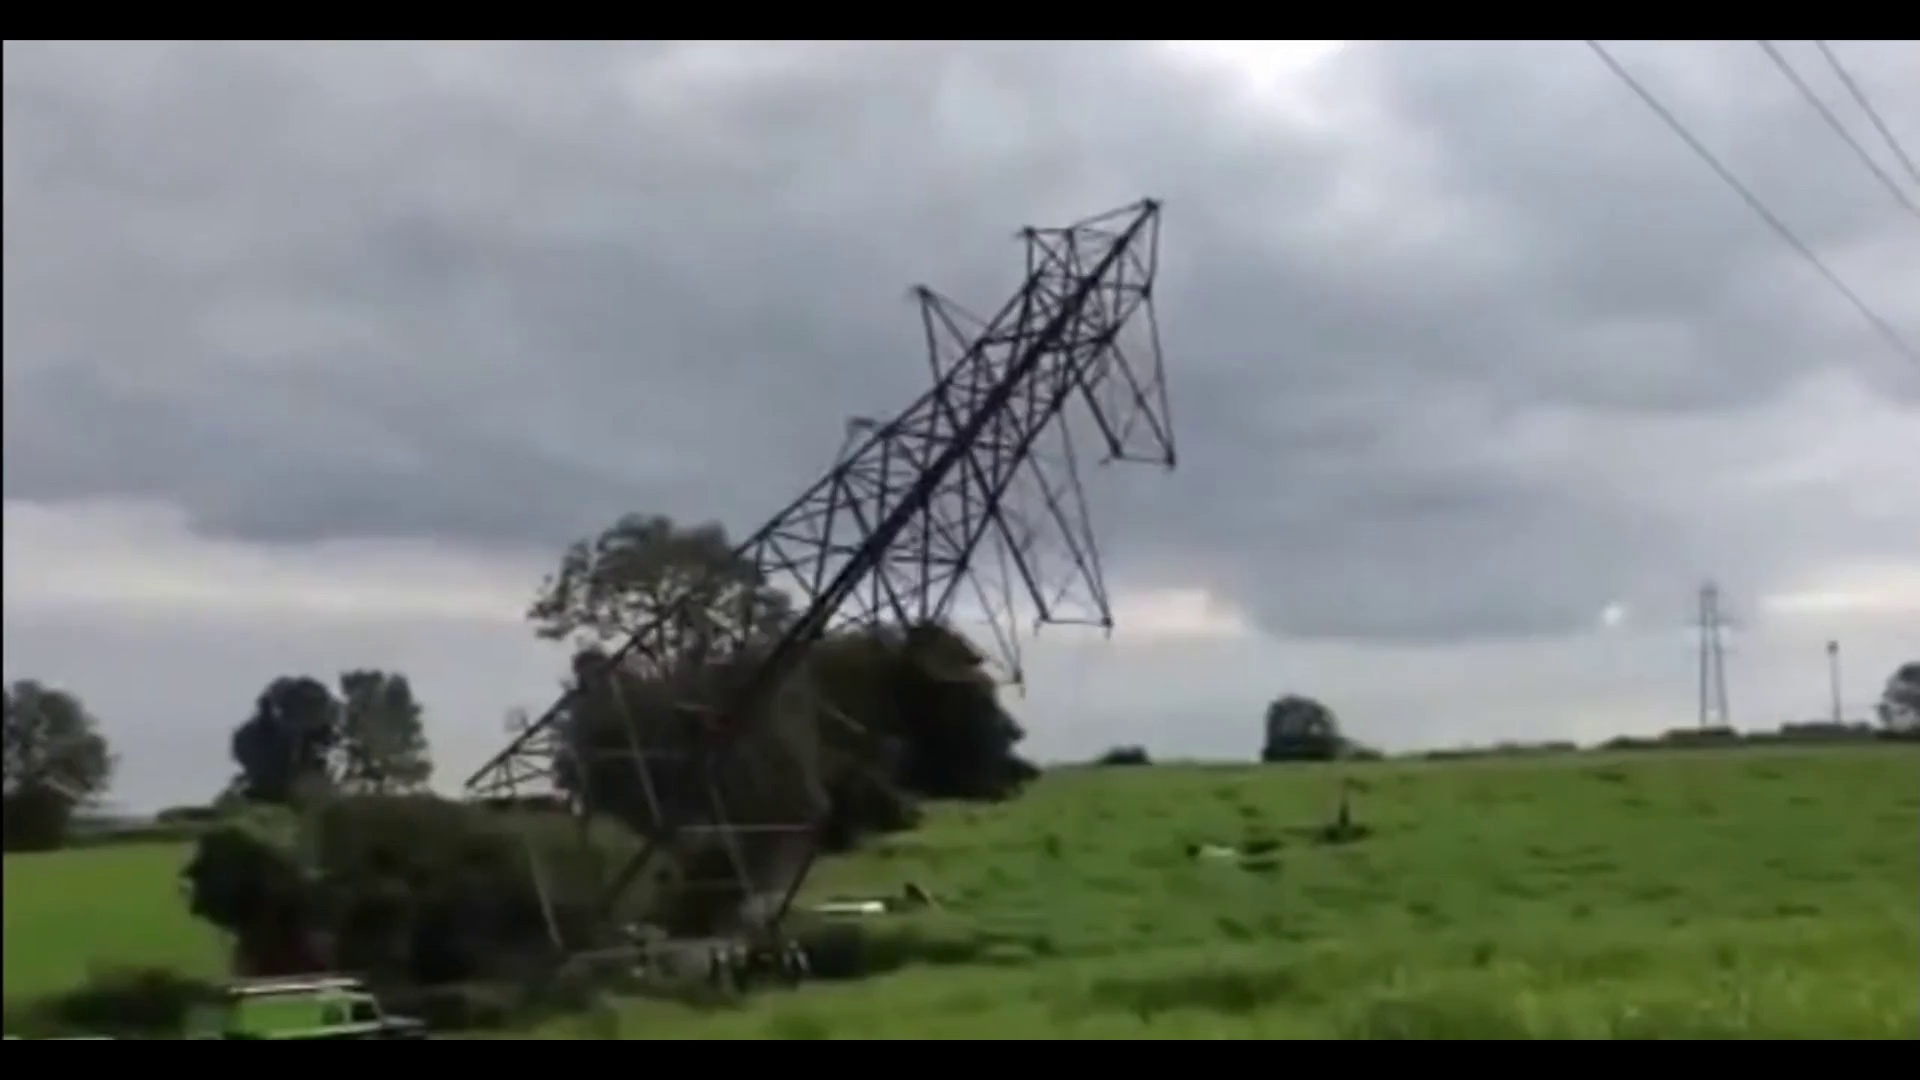tower_down: (500, 181, 1187, 769)
